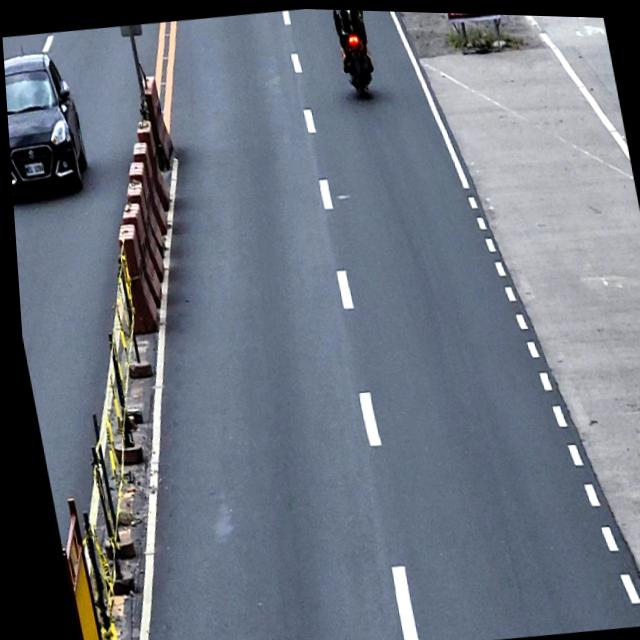Car: (2, 47, 94, 204)
License-Plate: (20, 161, 44, 177)
Motorcycle: (331, 8, 378, 93)
